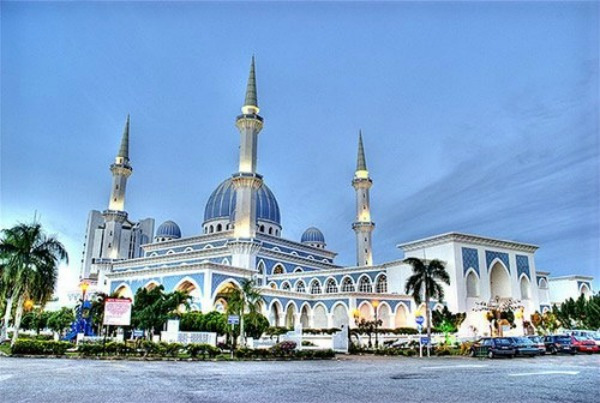Mosque: (79, 58, 544, 348)
